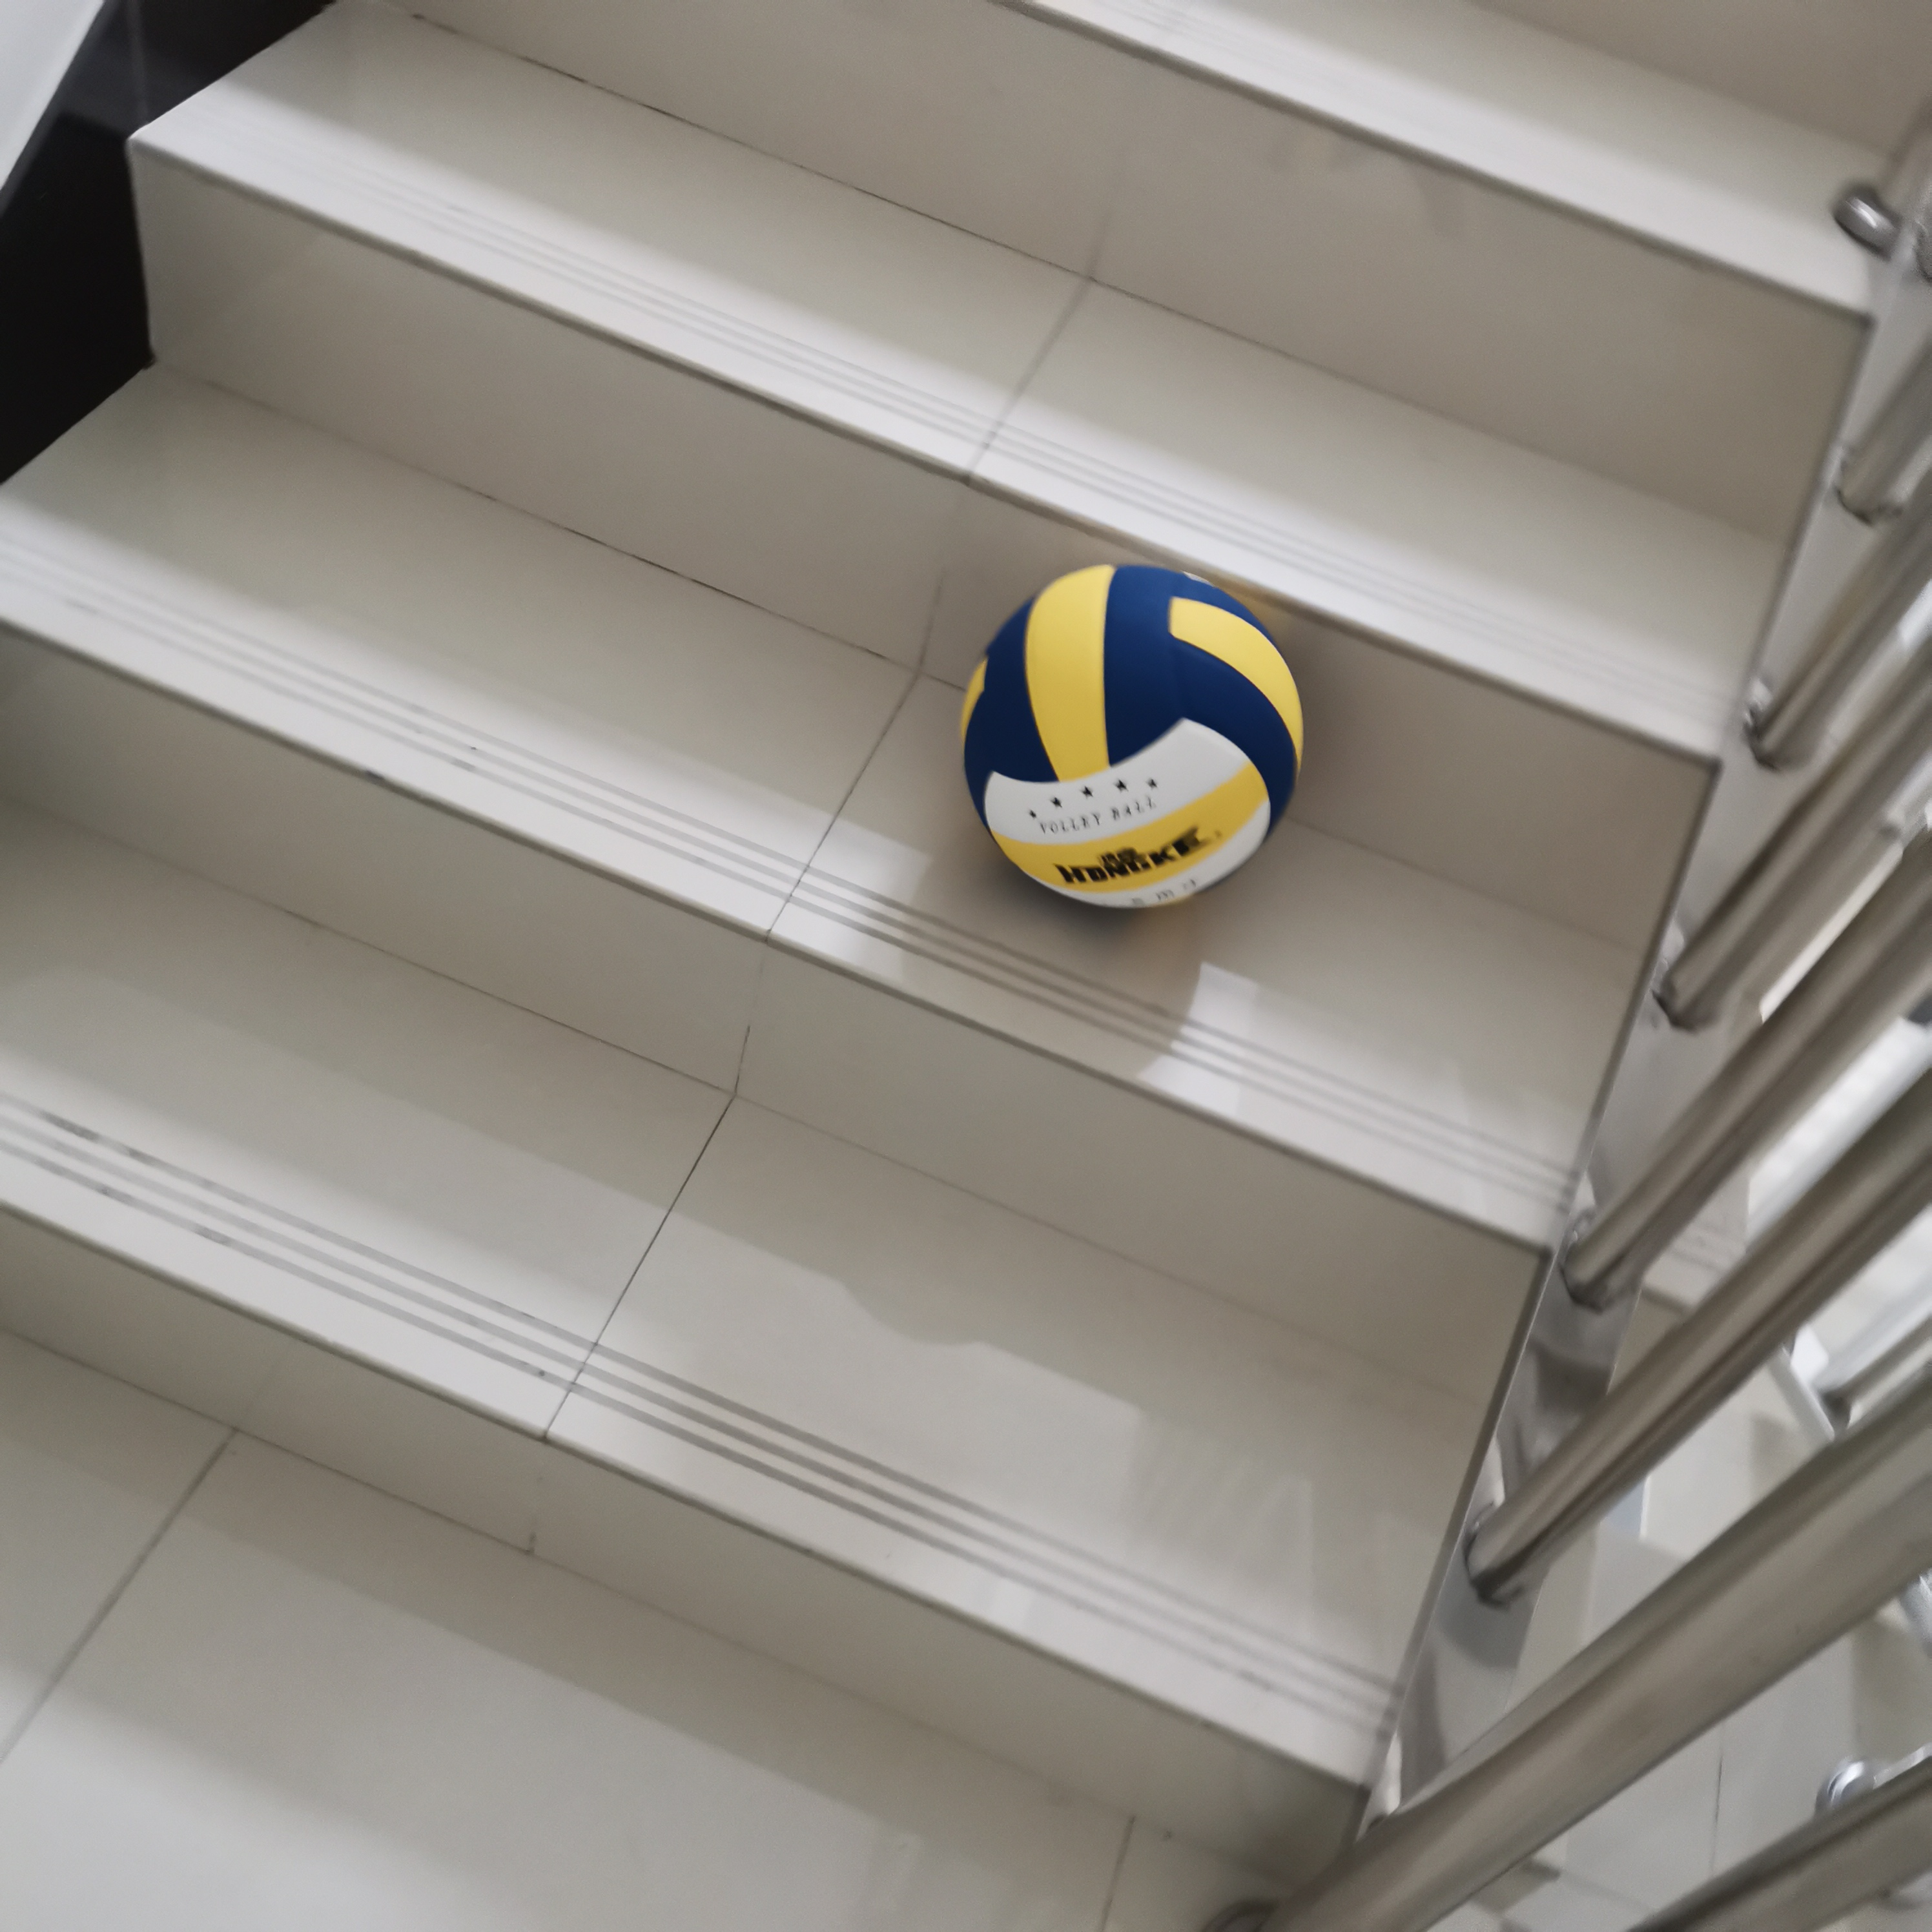volleyball: (962, 563, 1306, 911)
